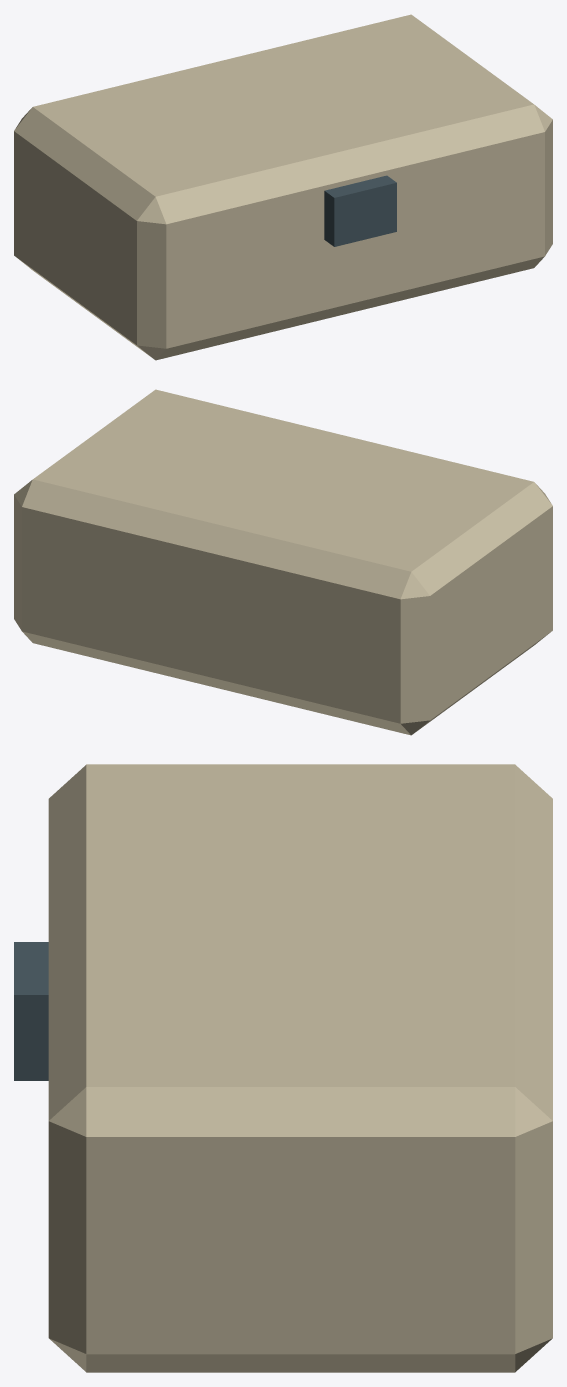
Rendered from set_medical_gloves.glb.
The picture shows the model from 3 angles, top to bottom: view 1: azimuth 30°, elevation 25°; view 2: azimuth 150°, elevation 25°; view 3: azimuth 270°, elevation 25°; orthographic projection. The views are drawn at different scales.
Parts seen in each view (by area): view 1: set_medical_gloves; view 2: set_medical_gloves; view 3: set_medical_gloves.
Part boxes in pixels (x1=…): set_medical_gloves: x1=14, y1=14, x2=552, y2=360; set_medical_gloves: x1=14, y1=389, x2=552, y2=735; set_medical_gloves: x1=14, y1=764, x2=552, y2=1372.
Bounding box in the file's own units: 0.266 × 0.1 × 0.171.
